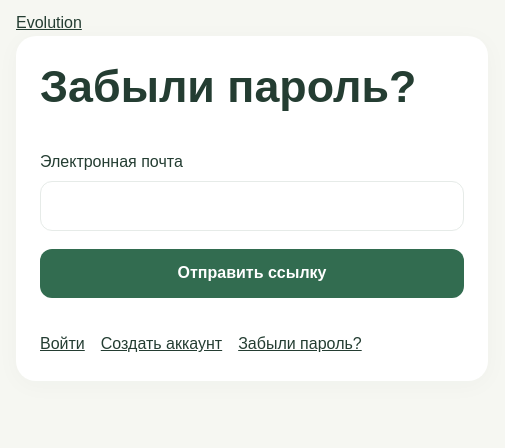
Test: password recovery UI › submits an email without a hidden fake password
Step 1. Type "test@example.com" into the field labelled "Электронная почта" → (252, 206), box [40, 181, 464, 231]
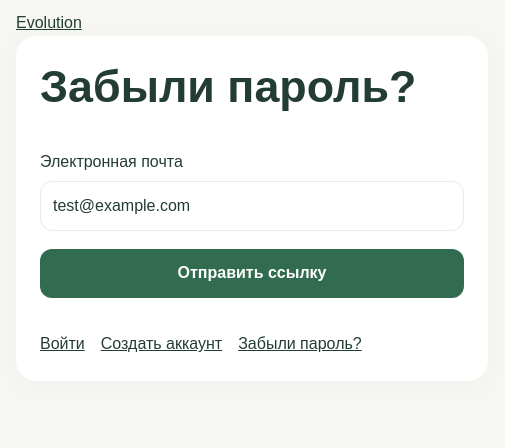
Step 2. Click the button "Отправить ссылку" → (252, 274), box [40, 249, 464, 298]
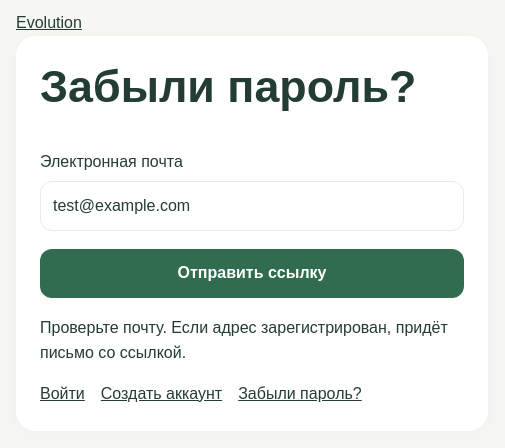
Now the text "Проверьте почту. Если адрес зарегистрирован, придёт письмо со ссылкой." is shown, box [40, 316, 464, 366]
